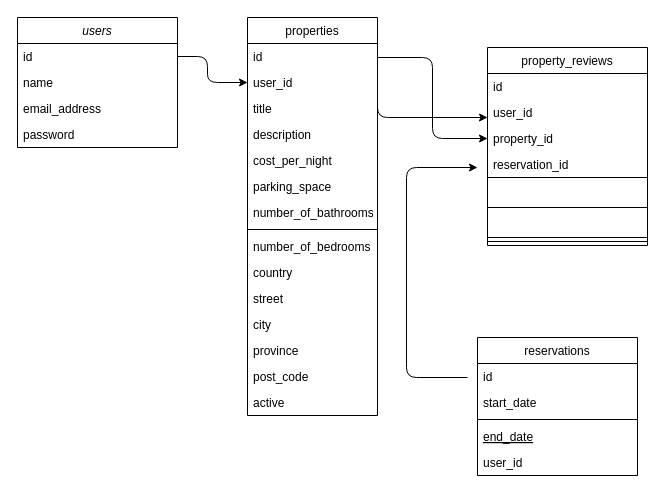
This 665x496 diagram has some shape labels left out. Here are the shapes that lost their labels. From the top down, the centre of each, then its label:
the point at 567,192: rating
the point at 567,222: message
